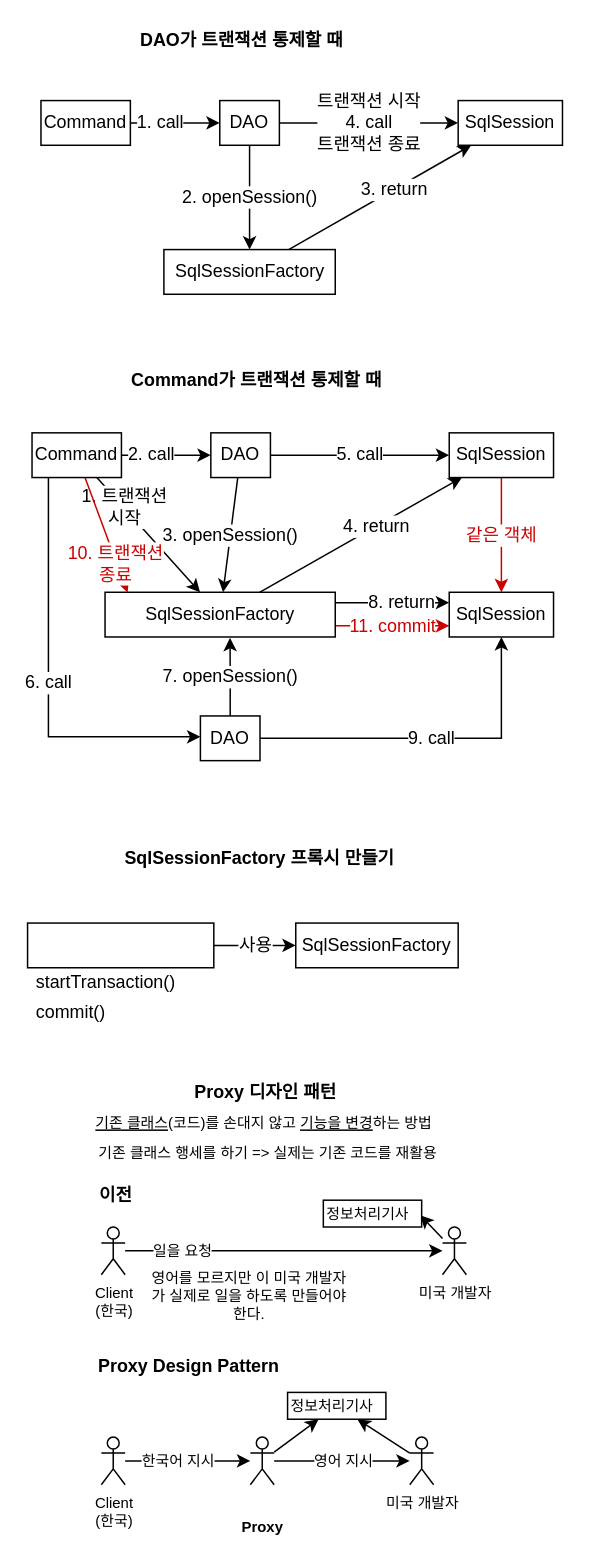
The diagram is 589 pixels wide and 1566 high, and some of its shapes have lost their labels. The shapes that lost their labels are listed below. From the top down, each one's box as (x1, y1, x2, y2) in pixels, then its label:
(26, 922, 214, 968): MySqlSessionFactory
(249, 1436, 274, 1485): 한국어 개발자
